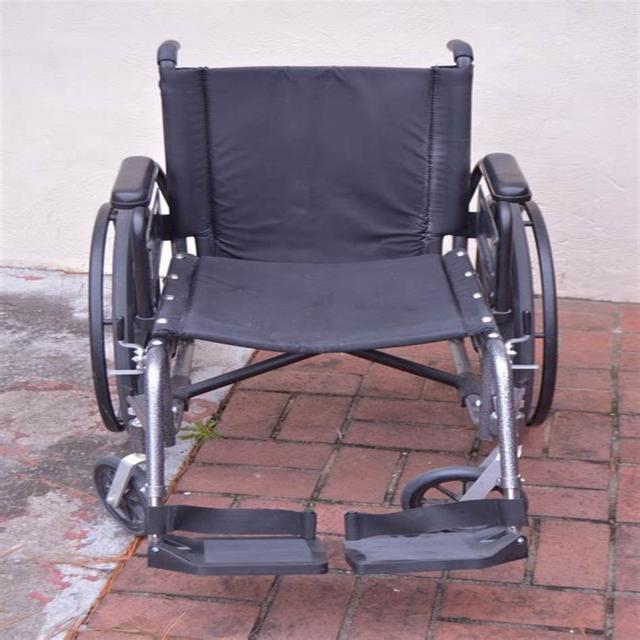wheelchairs: (99, 40, 580, 584)
